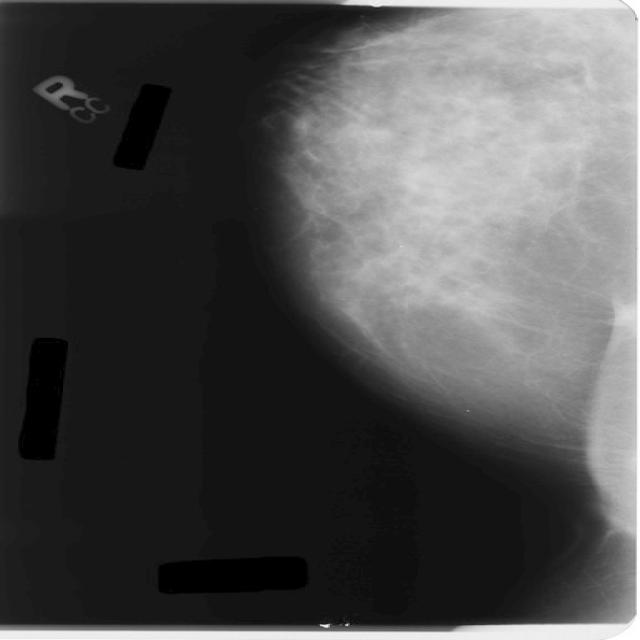tumour: (608, 302, 636, 332)
